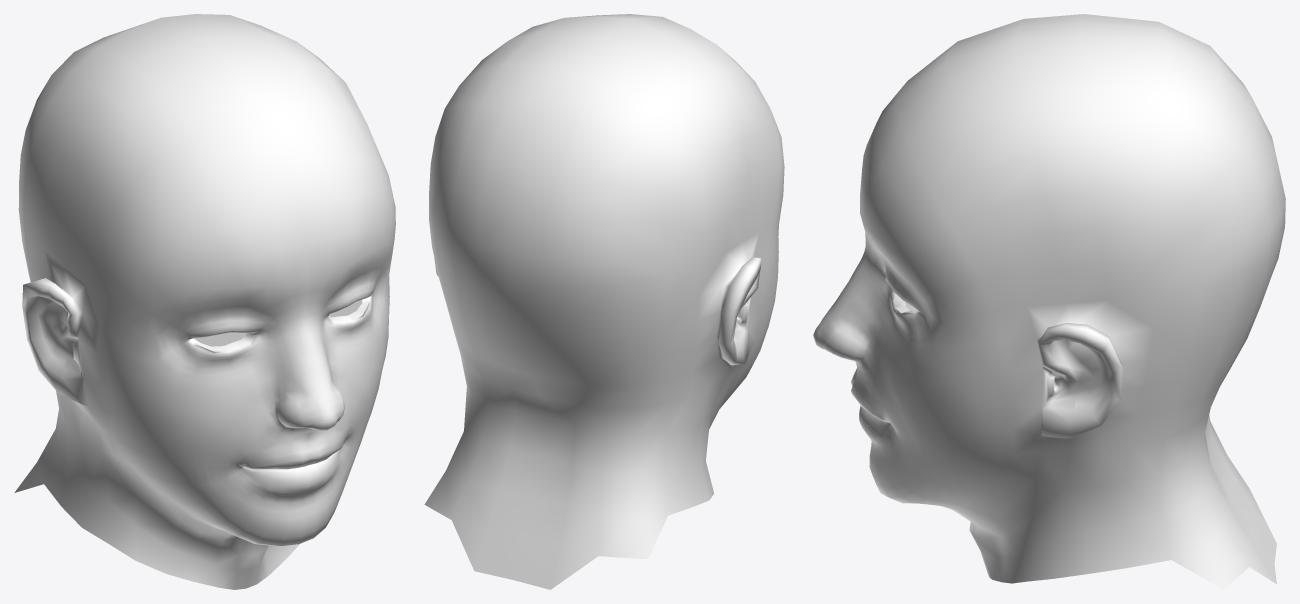
File: StandHead.FBX
3 views of the same model, side by side, from view 1: azimuth 30°, elevation 25°; view 2: azimuth 150°, elevation 25°; view 3: azimuth 270°, elevation 25° (orthographic). The views are drawn at different scales.
Parts seen in each view (by area): view 1: Box001; view 2: Box001; view 3: Box001.
Part boxes in pixels (x1=…): Box001: x1=14, y1=14, x2=395, y2=589; Box001: x1=424, y1=14, x2=784, y2=589; Box001: x1=813, y1=14, x2=1285, y2=589.
Size of the model in its own units: 388 by 580 by 462.
Materials: 1 (1 with a texture image).
